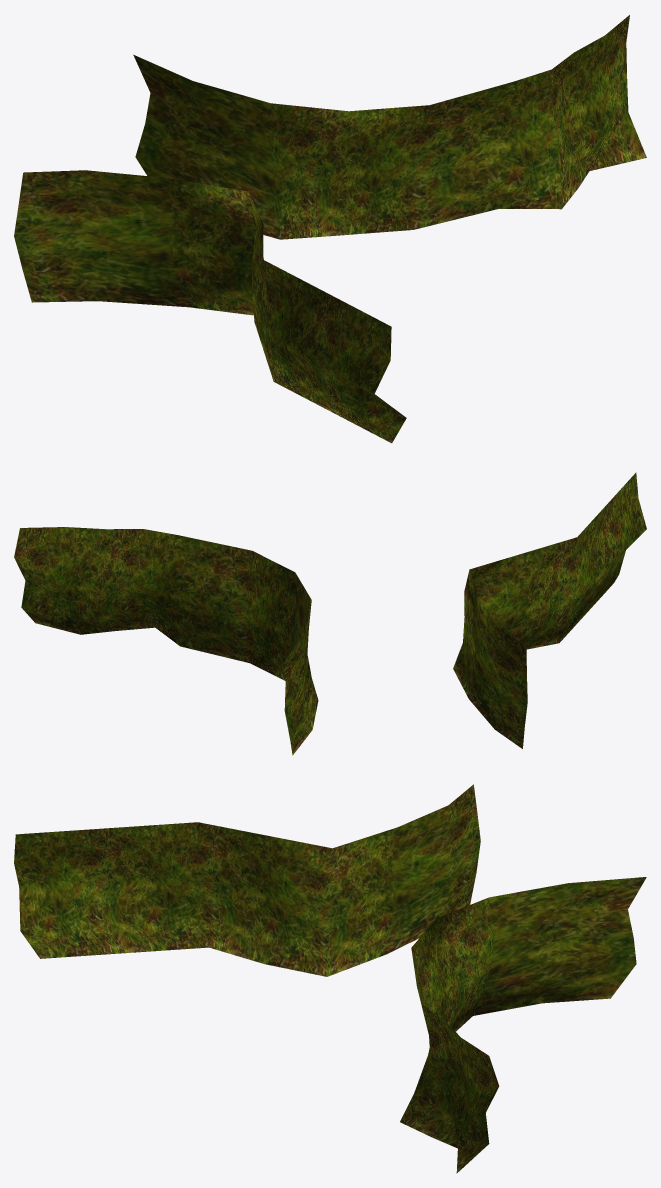
The model's file is TROLLHOLE02_ZRM_PSURF110.fbx.
3 renders of one model, top to bottom at view 1: azimuth 30°, elevation 25°; view 2: azimuth 150°, elevation 25°; view 3: azimuth 270°, elevation 25°, orthographic. The views are drawn at different scales.
Parts seen in each view (by area): view 1: TROLLHOLE02_ZRM_PSURF110; view 2: TROLLHOLE02_ZRM_PSURF110; view 3: TROLLHOLE02_ZRM_PSURF110.
Boxes of the visible parts, <box> form: TROLLHOLE02_ZRM_PSURF110: <box>14,15,646,443</box>; TROLLHOLE02_ZRM_PSURF110: <box>14,472,646,755</box>; TROLLHOLE02_ZRM_PSURF110: <box>14,784,646,1173</box>.
Size of the model in its own units: 150246 by 30791 by 145420.
Materials: 1 (1 with a texture image).
